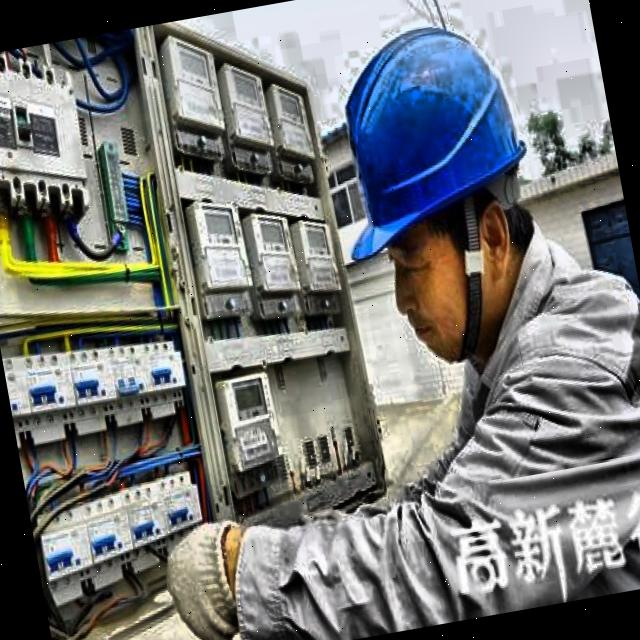helmet: (300, 0, 580, 393)
